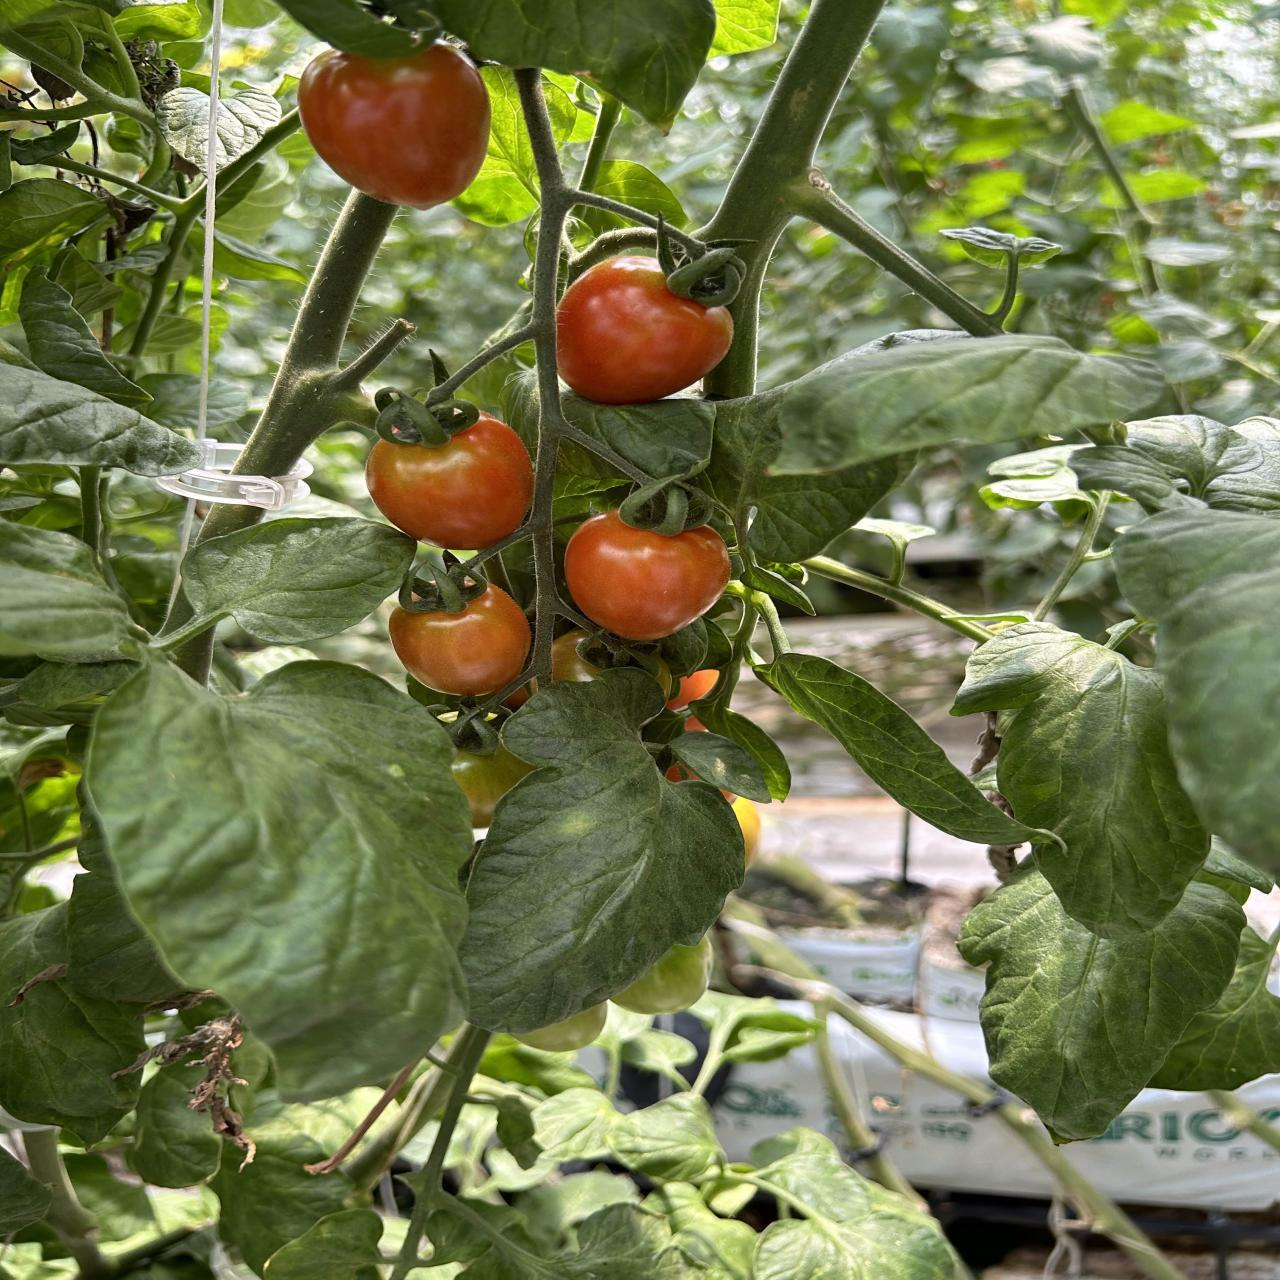Hoja: (84, 661, 471, 1099), (696, 329, 1164, 565), (458, 678, 744, 1034), (956, 625, 1208, 938), (960, 870, 1245, 1139), (1114, 505, 1280, 873), (166, 505, 416, 642)
Pedunculo: (697, 0, 1000, 400), (236, 190, 409, 477)
Tomate: (299, 42, 491, 209), (557, 254, 733, 404), (366, 413, 533, 550), (565, 510, 730, 641), (389, 585, 530, 696)
